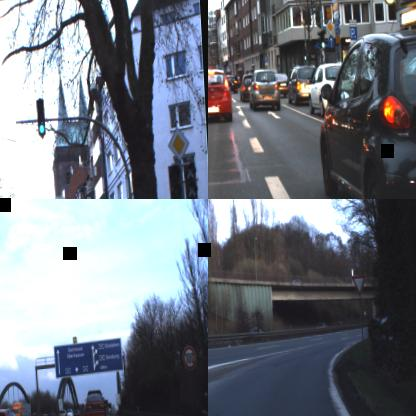give way: (350, 274, 366, 297)
go straight: (327, 34, 334, 48)
priority road: (166, 125, 190, 162), (324, 17, 336, 35)
speed limit 100: (181, 344, 197, 370)
